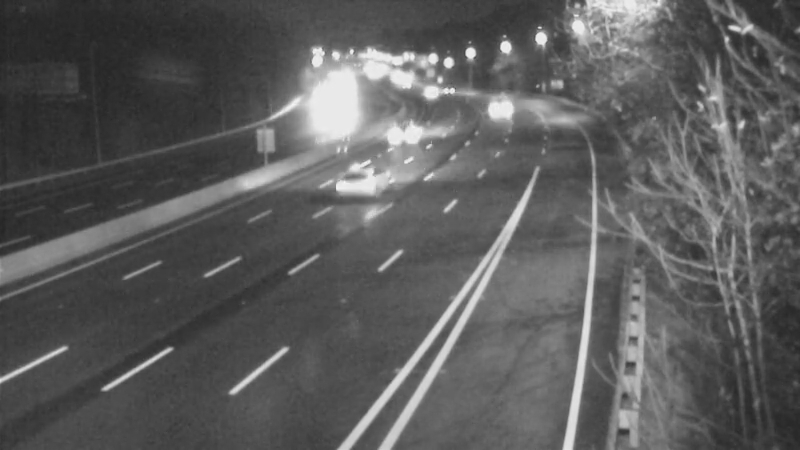vehicle: (321, 142, 401, 222), (406, 65, 456, 115), (423, 63, 473, 113), (474, 81, 524, 131), (381, 102, 431, 152), (300, 90, 350, 140)
